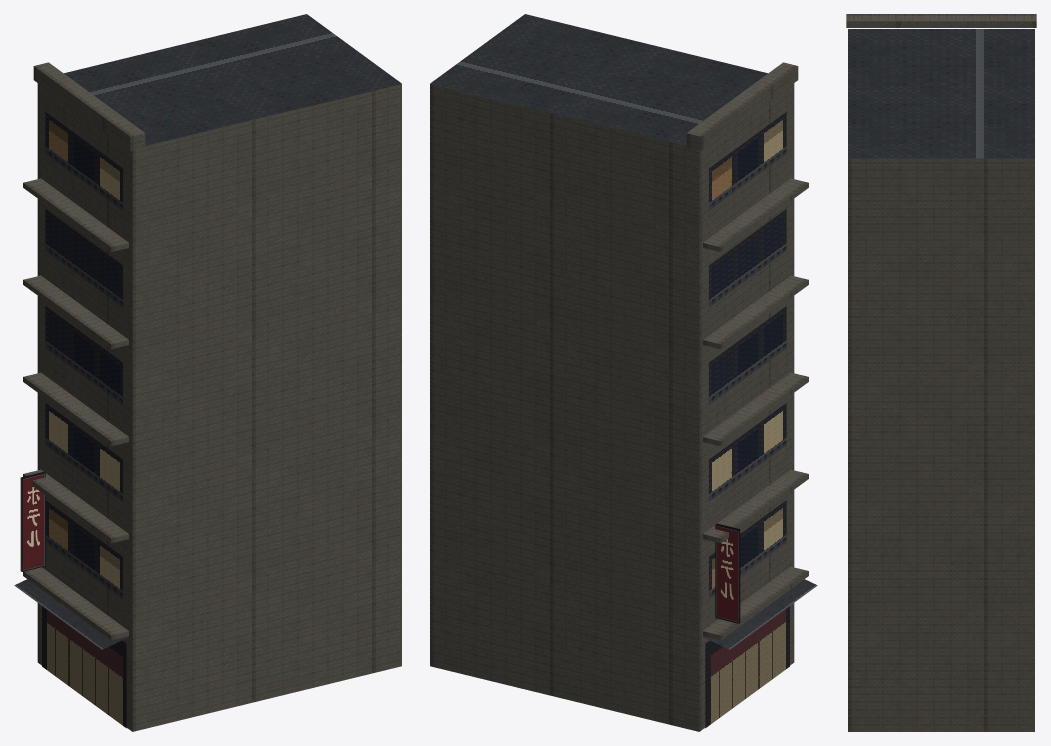
File: mtn_block_al_a.glb
3 views of the same model, side by side, from view 1: azimuth 30°, elevation 25°; view 2: azimuth 150°, elevation 25°; view 3: azimuth 270°, elevation 25° (orthographic).
Parts seen in each view (by area): view 1: mtn_block_al_a; view 2: mtn_block_al_a; view 3: mtn_block_al_a.
Boxes of the visible parts, x1=… form: mtn_block_al_a: x1=14, y1=14, x2=401, y2=731; mtn_block_al_a: x1=430, y1=14, x2=817, y2=731; mtn_block_al_a: x1=846, y1=14, x2=1036, y2=731.
Bounding box in the file's own units: 9.95 × 19.05 × 5.6.
5 materials, 5 textured.
